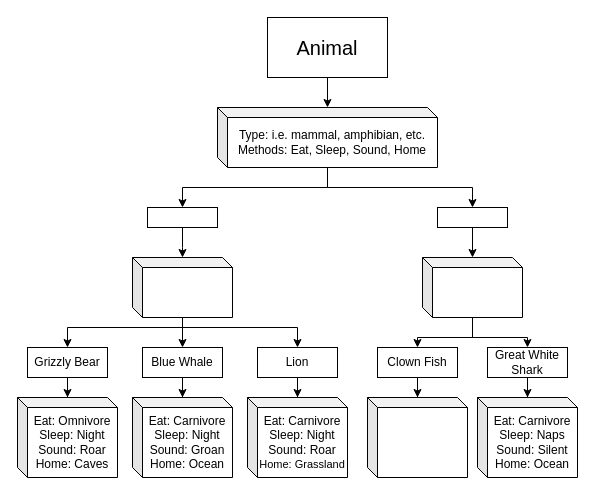
This 595x495 diagram has some shape labels left out. Here are the shapes that lost their labels. From the top down, the centre of each, then its label:
point (182, 217): Mammals
point (472, 217): Fish
point (182, 287): Hair/Fur Milk
point (472, 287): Lives in water Gills
point (417, 437): Eat: Omnivore Sleep: Night Sound: Chirp Home: Anemone
